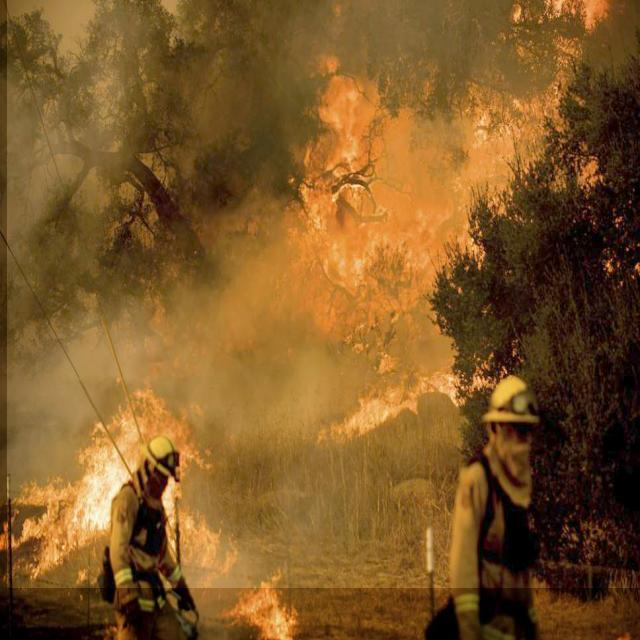Fire: (291, 0, 640, 449), (35, 396, 201, 575)
Smoke: (7, 0, 640, 588)
